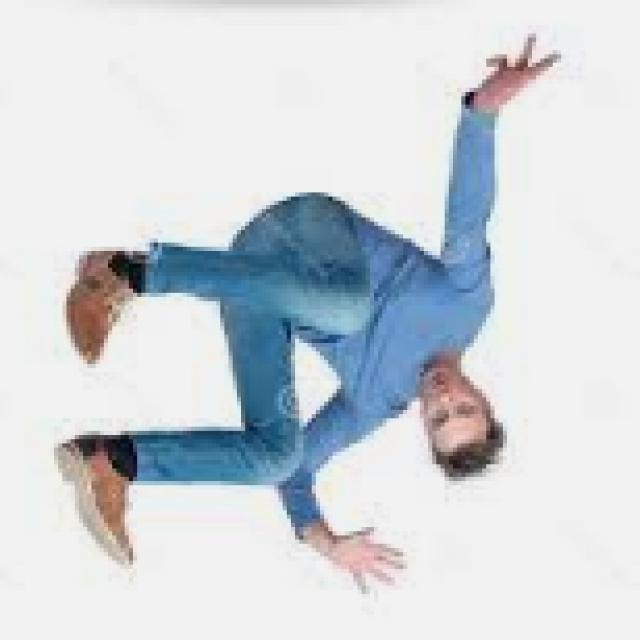fall: (54, 40, 559, 595)
